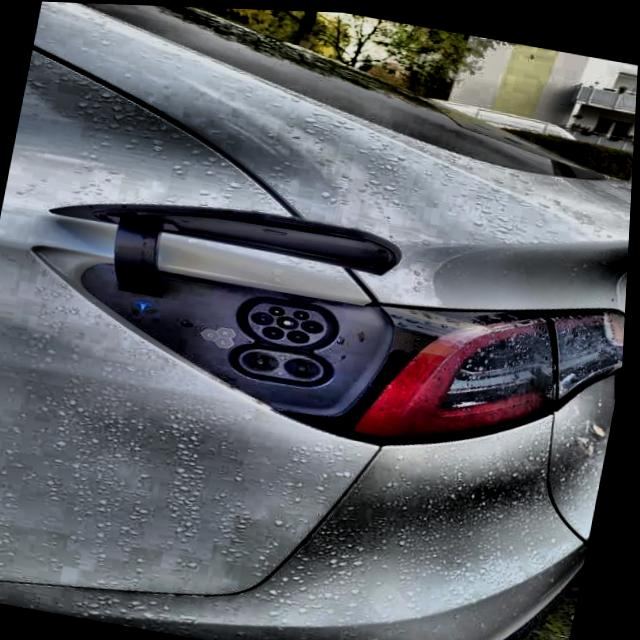inlet: (251, 301, 331, 343)
inlet-above-left: (272, 304, 288, 314)
inlet-above-right: (296, 308, 313, 318)
inlet-below-left: (264, 324, 289, 338)
inlet-below-right: (290, 328, 313, 342)
inlet-center: (279, 314, 302, 328)
inlet-center-left: (254, 310, 278, 324)
inlet-center-right: (304, 318, 327, 332)
